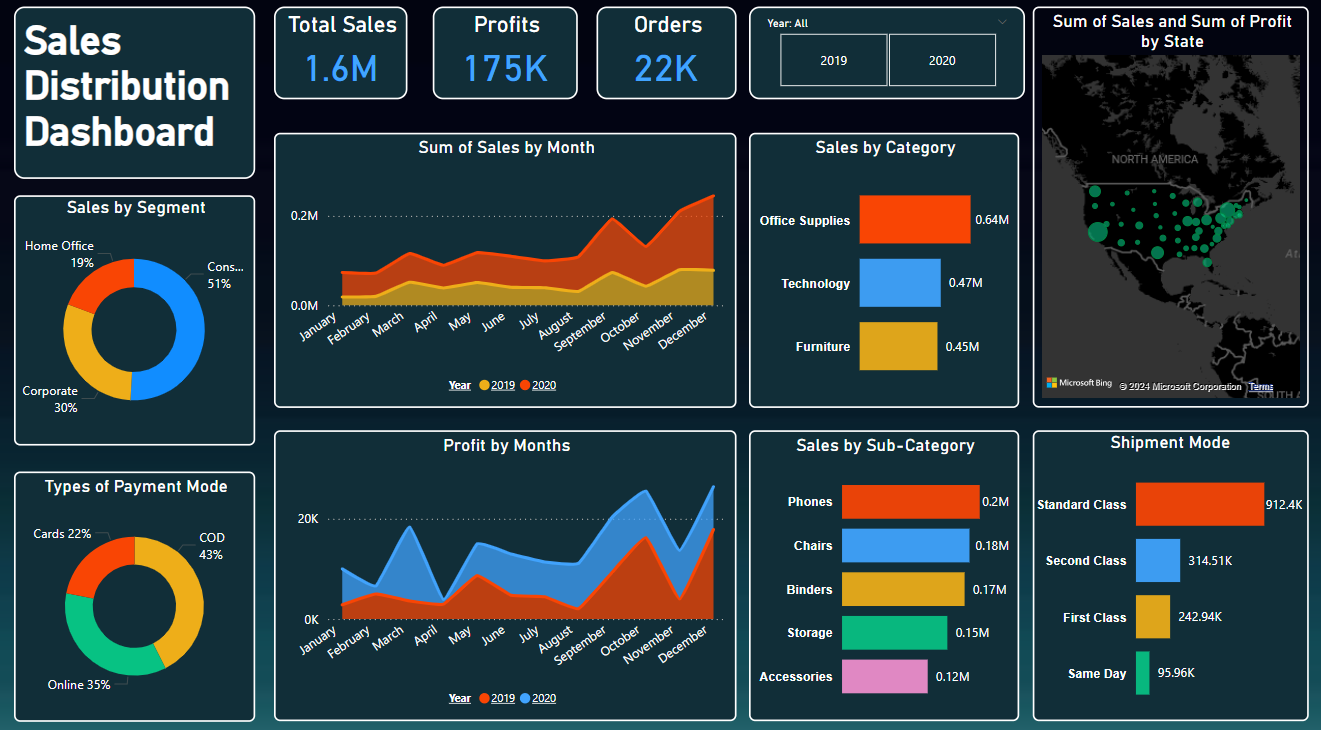

Layout of this report page (visuals, bound fields, positions):
{"tool":"powerbi","page":{"name":"Page 1","canvas":[1280,720],"ordinal":0},"visuals":[{"type":"clusteredBarChart","title":"Sales by Category","fields":{"Category":["Sheet1.Category"],"Y":["Sum(Sheet1.Sales)"]},"box":[723.9,133.9,260.6,265.4],"z":0},{"type":"clusteredBarChart","title":"Sales by Sub-Category","fields":{"Category":["Sheet1.Sub-Category","Sheet1.Category"],"Y":["Sum(Sheet1.Sales)"]},"box":[723.9,421,260.6,281.1],"z":1000},{"type":"clusteredBarChart","title":"Shipment Mode","fields":{"Y":["Sum(Sheet1.Sales)"],"Category":["Sheet1.Ship Mode"]},"box":[997.7,421,266.6,281.1],"z":2000},{"type":"donutChart","title":"Types of Payment Mode","fields":{"Category":["Sheet1.Payment Mode"],"Y":["Sum(Sheet1.Sales)"]},"box":[14.5,460.9,232.8,241.3],"z":3000},{"type":"stackedAreaChart","title":"Sum of Sales by Month","fields":{"Y":["Sum(Sheet1.Sales)"],"Category":["Sheet1.Order Date.Variation.Date Hierarchy.Month"],"Series":["Sheet1.Order Date.Variation.Date Hierarchy.Year"]},"box":[265.4,133.9,446.4,265.4],"z":4000},{"type":"stackedAreaChart","title":"Profit by Months","fields":{"Series":["Sheet1.Order Date.Variation.Date Hierarchy.Year"],"Category":["Sheet1.Order Date.Variation.Date Hierarchy.Month"],"Y":["Sum(Sheet1.Profit)"]},"box":[265.4,421,446.4,281.1],"z":5000},{"type":"map","fields":{"Category":["Sheet1.State"],"Size":["Sum(Sheet1.Sales)"]},"box":[997.7,12.1,266.6,387.3],"z":6000},{"type":"donutChart","title":"Sales by Segment","fields":{"Category":["Sheet1.Segment"],"Y":["CountNonNull(Sheet1.Payment Mode)"]},"box":[14.5,194.2,232.8,241.3],"z":7000},{"type":"slicer","fields":{"Values":["Sheet1.Order Date.Variation.Date Hierarchy.Year"]},"box":[723.9,12.1,266.6,89.3],"z":8000},{"type":"textbox","box":[14.5,12.1,232.8,166.5],"z":9000},{"type":"card","title":"Total Sales ","fields":{"Values":["Sum(Sheet1.Sales)"]},"box":[265.4,12.1,129.1,89.3],"z":10000},{"type":"card","title":"Profits","fields":{"Values":["Sum(Sheet1.Profit)"]},"box":[418.6,12.1,139.9,89.3],"z":11000},{"type":"card","title":"Orders","fields":{"Values":["Sum(Sheet1.Quantity)"]},"box":[576.7,12.1,135.1,89.3],"z":12000}]}

Visuals, with their boxes in screenshot pixels (x1, y1, x2, y2), scaled from the page's 1280x720 canvas onto the 1321x730 screenshot:
"Sales by Category" clusteredBarChart: <region>747, 136, 1016, 405</region>
"Sales by Sub-Category" clusteredBarChart: <region>747, 427, 1016, 712</region>
"Shipment Mode" clusteredBarChart: <region>1030, 427, 1305, 712</region>
"Types of Payment Mode" donutChart: <region>15, 467, 255, 712</region>
"Sum of Sales by Month" stackedAreaChart: <region>274, 136, 735, 405</region>
"Profit by Months" stackedAreaChart: <region>274, 427, 735, 712</region>
map - Sheet1.State x Sum(Sheet1.Sales): <region>1030, 12, 1305, 405</region>
"Sales by Segment" donutChart: <region>15, 197, 255, 442</region>
slicer - Sheet1.Order Date.Variation.Date Hierarchy.Year: <region>747, 12, 1022, 103</region>
textbox: <region>15, 12, 255, 181</region>
"Total Sales " card: <region>274, 12, 407, 103</region>
"Profits" card: <region>432, 12, 576, 103</region>
"Orders" card: <region>595, 12, 735, 103</region>
